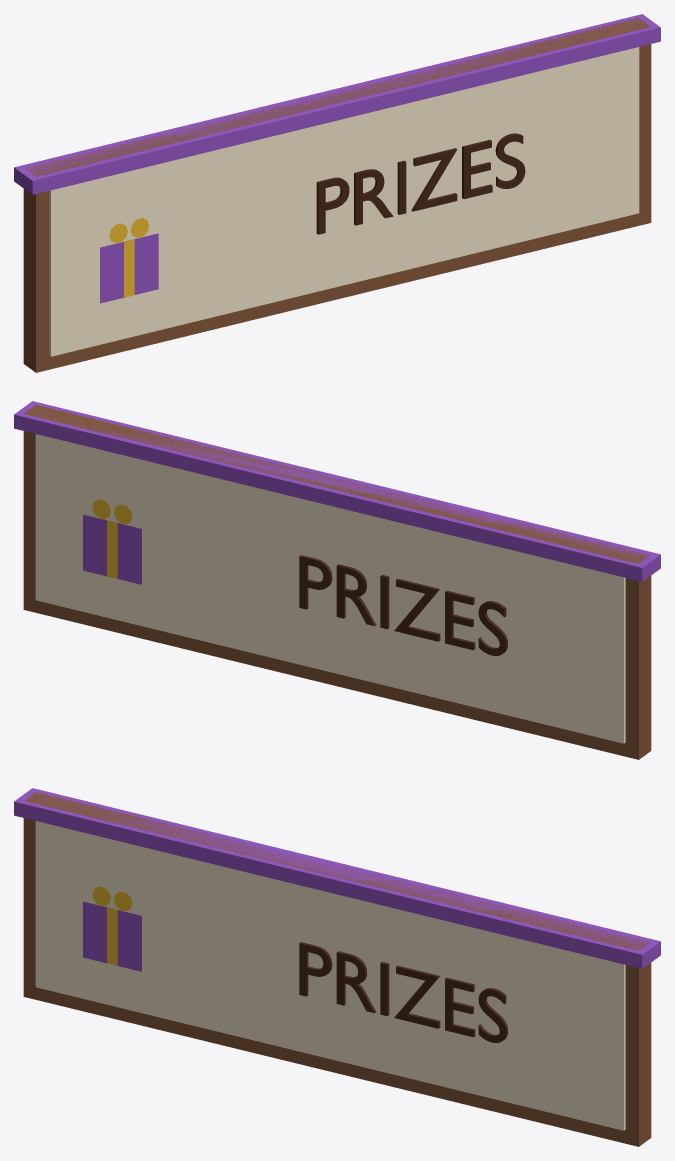
File: kiosk-sign-prizes.glb
3 views of the same model, one above another, from view 1: azimuth 30°, elevation 25°; view 2: azimuth 150°, elevation 25°; view 3: azimuth 330°, elevation 25° (orthographic).
Parts seen in each view (by area): view 1: kiosk-sign-prizes; view 2: kiosk-sign-prizes; view 3: kiosk-sign-prizes.
Part boxes in pixels (x1,y1,x2,y2): kiosk-sign-prizes: (14, 14, 660, 372); kiosk-sign-prizes: (14, 401, 660, 759); kiosk-sign-prizes: (14, 788, 660, 1146).
Bounding box in the file's own units: 4.7 × 1.4 × 0.246.
